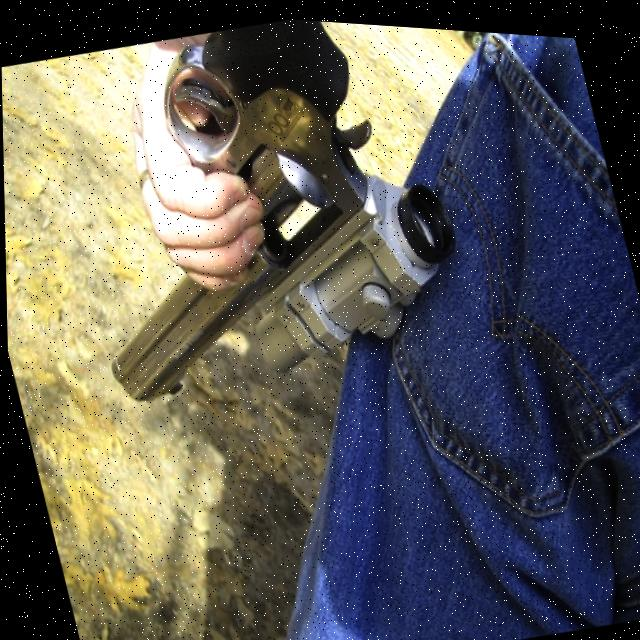pistol: (33, 2, 481, 424)
